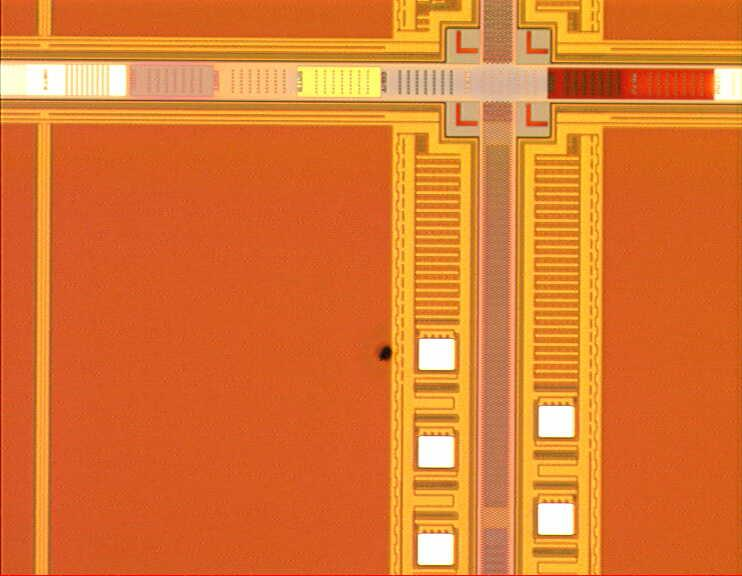PIQ PARTICLE: (371, 340, 399, 368)
